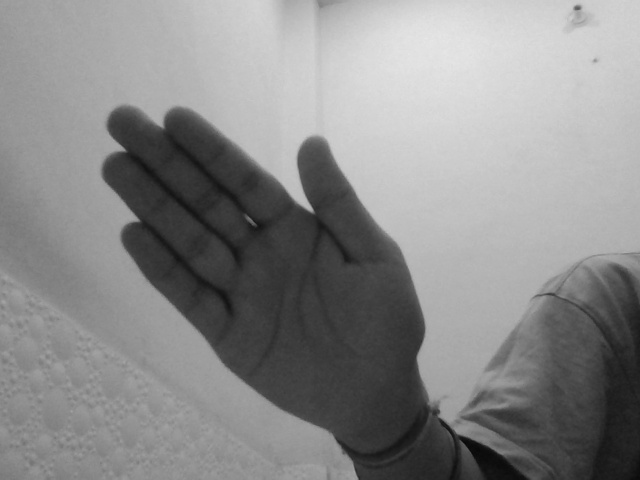Hello: (99, 102, 426, 427)
